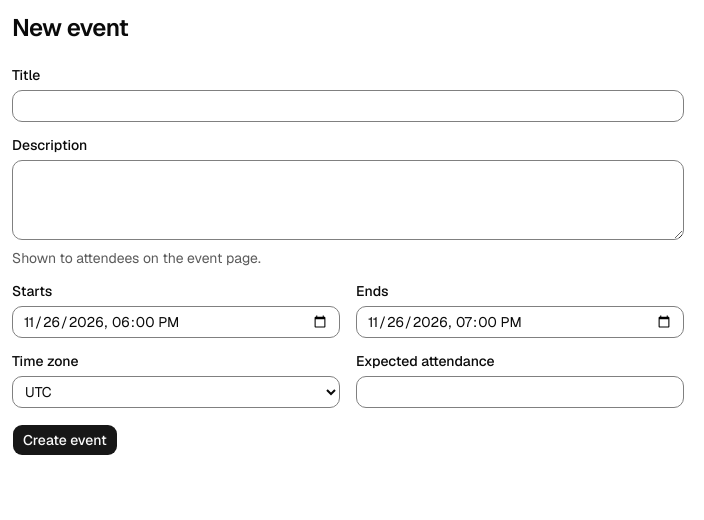
it: NewEventPage › refuses a time the clocks skip
In the field labelled "Title": [348, 106] box [12, 90, 684, 122], type "Product launch"
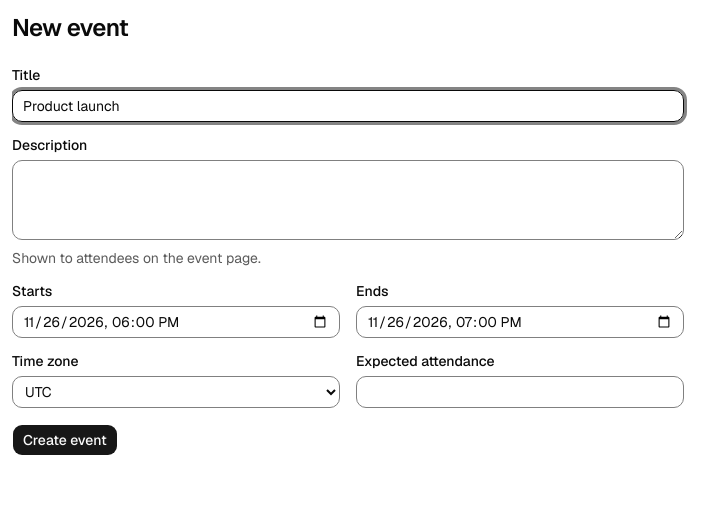
Select "America/New_York" in the dropdown labelled "Time zone": [176, 392] box [12, 376, 340, 408]
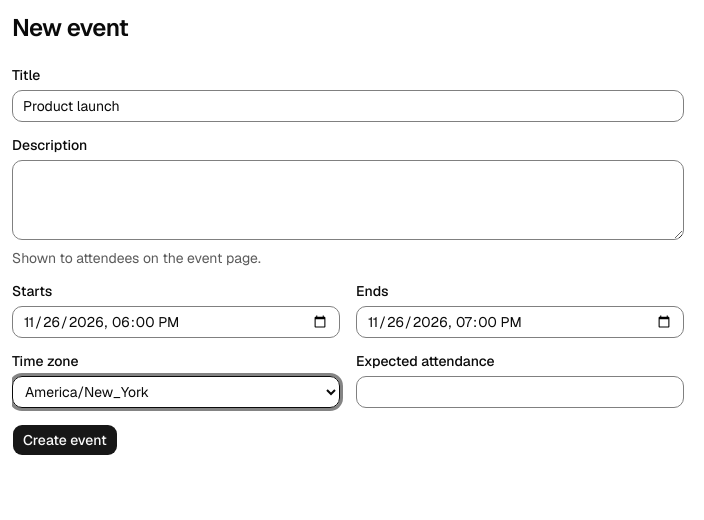
Replace the text in the field labelled "Starts" with "2026-03-08T02:30": [176, 322] box [12, 306, 340, 338]
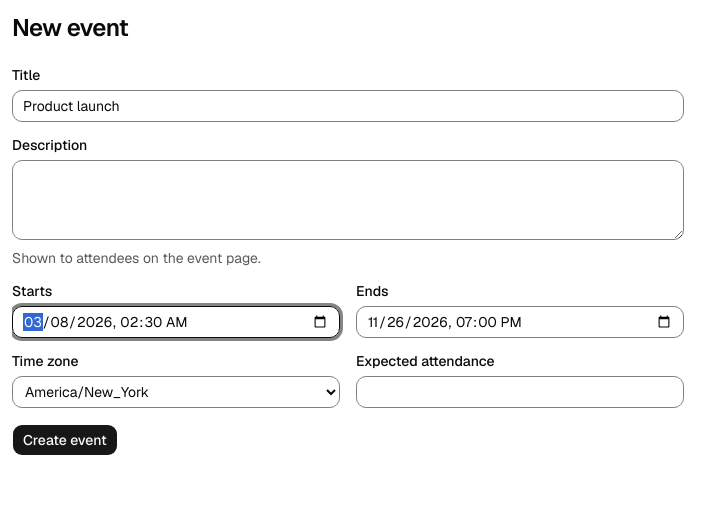
Replace the text in the field labelled "Ends" with "2026-03-08T04:00": [520, 322] box [356, 306, 684, 338]
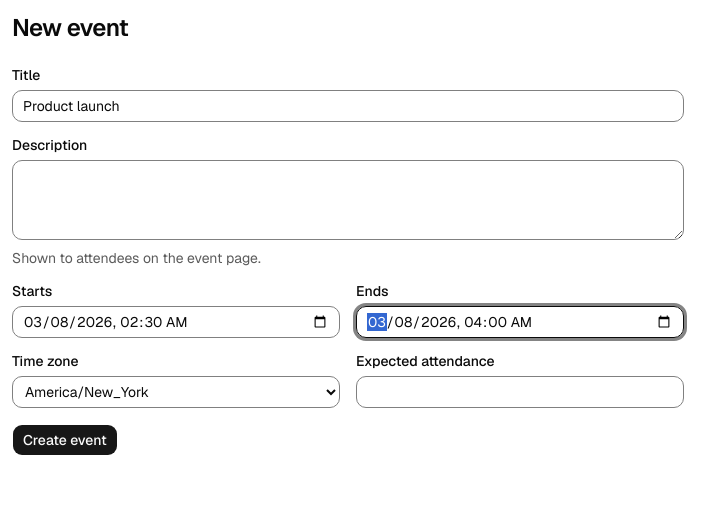
Click the button "Create event": [65, 440] box [12, 424, 118, 456]
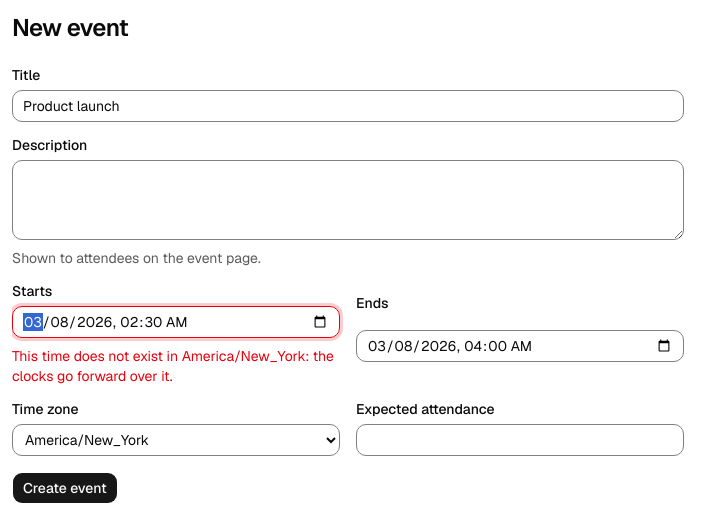
Check: the text "This time does not exist in America/New_York: the clocks go forward over it." is shown, box [12, 346, 340, 386]
